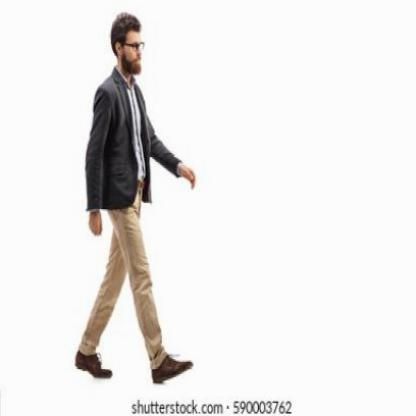person: (76, 13, 180, 380)
